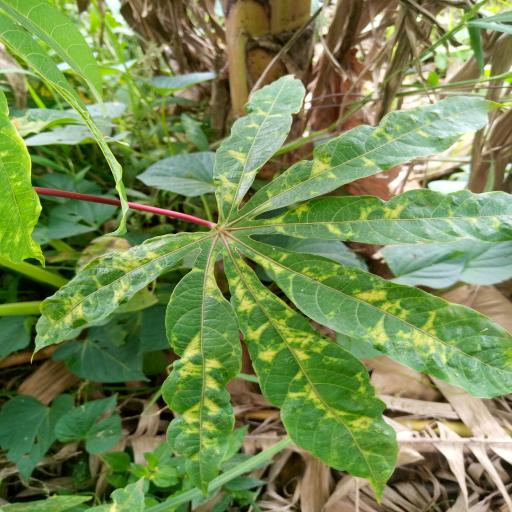Cassava_Mosaic: (34, 75, 512, 491)
